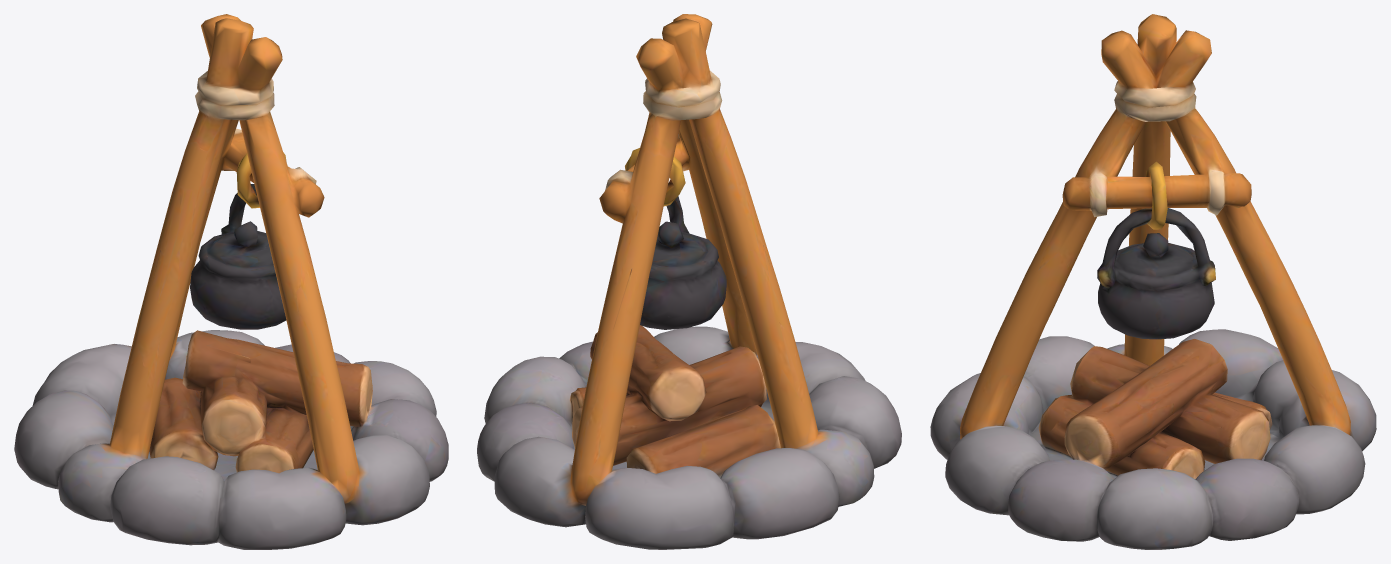
File: prop_campfire.glb
3 views of the same model, side by side, from view 1: azimuth 30°, elevation 25°; view 2: azimuth 150°, elevation 25°; view 3: azimuth 270°, elevation 25° (orthographic).
Visible parts, largest first — view 1: tripo_node_fad0853e-493a-47f4-ad8b-dc7c5e0688a9; view 2: tripo_node_fad0853e-493a-47f4-ad8b-dc7c5e0688a9; view 3: tripo_node_fad0853e-493a-47f4-ad8b-dc7c5e0688a9.
Part boxes in pixels (left/top/right/bottom): tripo_node_fad0853e-493a-47f4-ad8b-dc7c5e0688a9: left=14, top=14, right=448, bottom=549; tripo_node_fad0853e-493a-47f4-ad8b-dc7c5e0688a9: left=477, top=14, right=901, bottom=549; tripo_node_fad0853e-493a-47f4-ad8b-dc7c5e0688a9: left=930, top=14, right=1376, bottom=549.
Bounding box in the file's own units: 0.8678 × 1 × 0.9107.
1 material, 1 textured.
